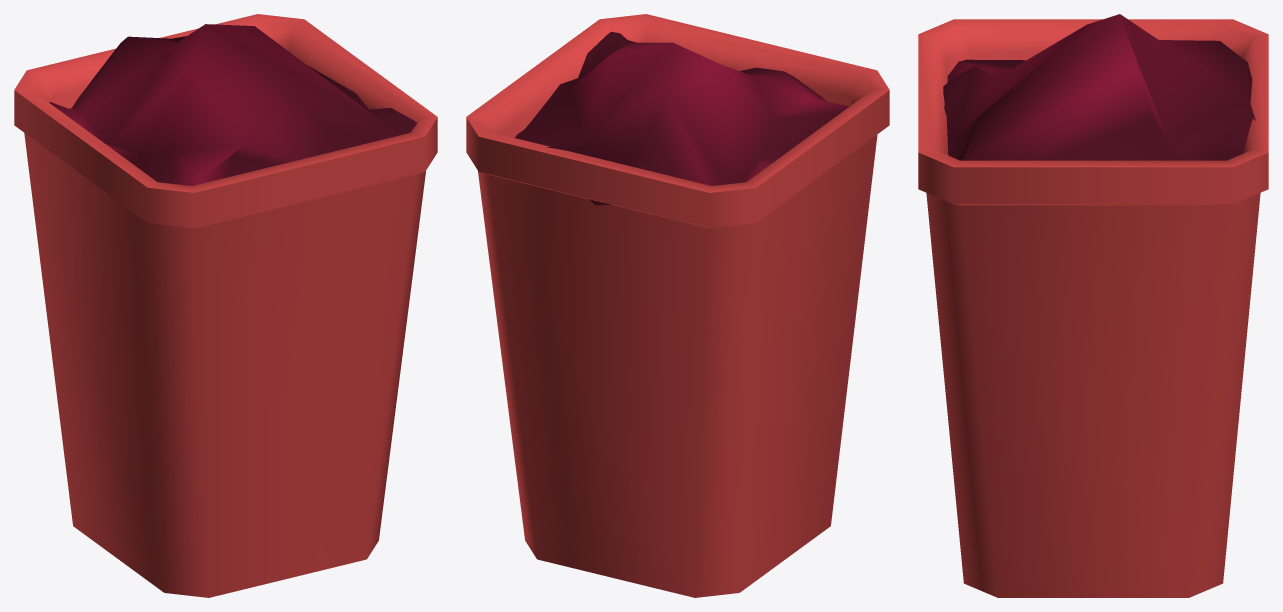
File: SM_Bin_Red.glb
3 views of the same model, side by side, from view 1: azimuth 30°, elevation 25°; view 2: azimuth 150°, elevation 25°; view 3: azimuth 270°, elevation 25° (orthographic). The views are drawn at different scales.
Parts seen in each view (by area): view 1: SM_Bin_Red, SM_Trash_Red; view 2: SM_Bin_Red, SM_Trash_Red; view 3: SM_Bin_Red, SM_Trash_Red.
Boxes of the visible parts, <box> form: SM_Bin_Red: <box>14,14,437,597</box>; SM_Trash_Red: <box>49,24,416,185</box>; SM_Bin_Red: <box>466,14,889,597</box>; SM_Trash_Red: <box>515,31,849,205</box>; SM_Bin_Red: <box>918,19,1268,597</box>; SM_Trash_Red: <box>943,14,1255,160</box>.
Size of the model in its own units: 0.7113 by 1.18 by 0.7113.
